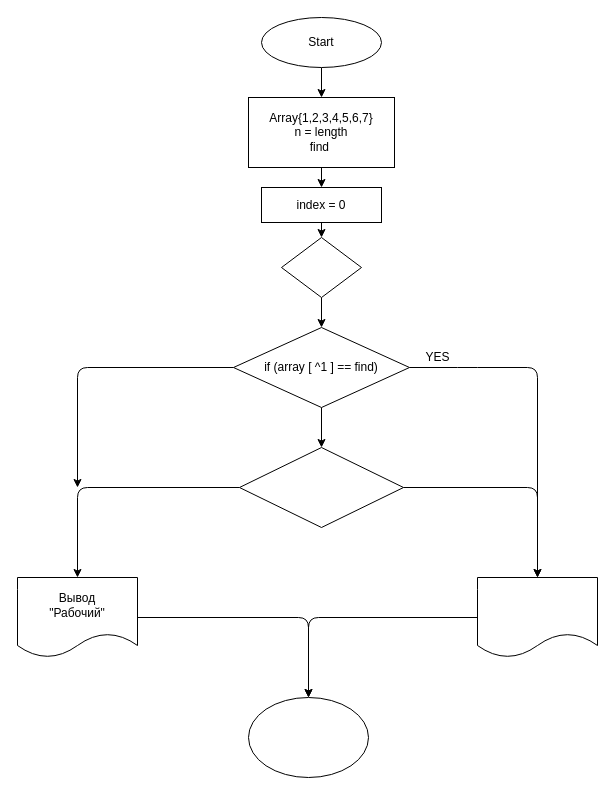
This 615x795 diagram has some shape labels left out. The shapes that lost their labels are listed below. From the top down, each one's centre as x and y in pixels, then its label:
the point at 321,267: index < n
the point at 321,487: if (array [ ^2 ] == find)
the point at 537,617: Вывод "Выходной"
